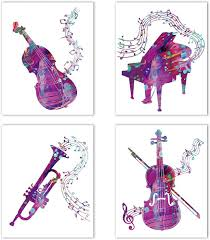Piano: (112, 22, 200, 121)
Saxophone: (1, 142, 89, 240)
Violin: (119, 122, 210, 239)
